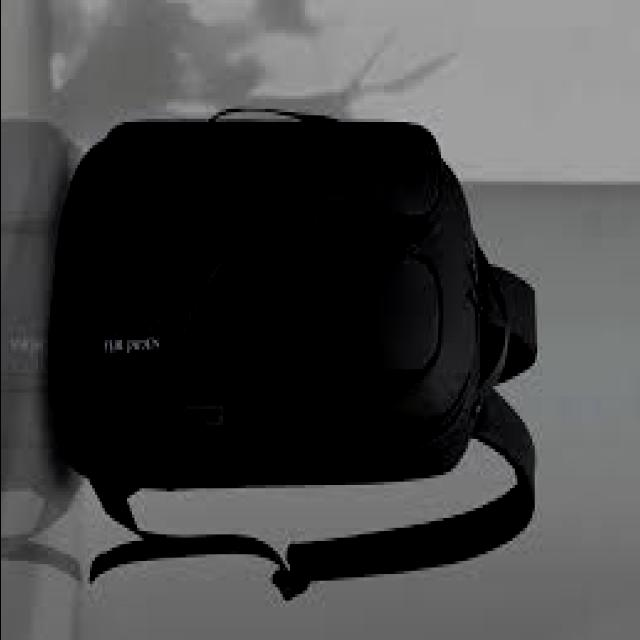backpack: (50, 107, 540, 602)
